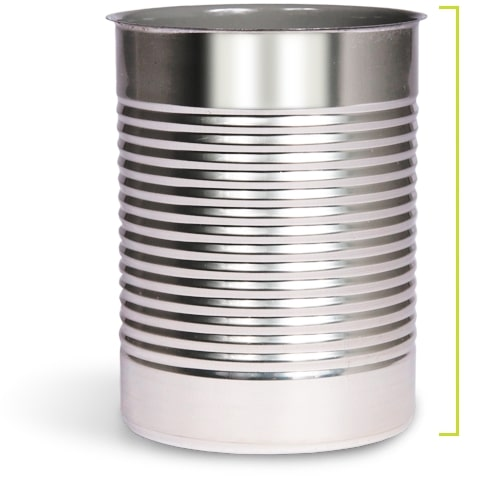metal: (102, 3, 429, 456)
